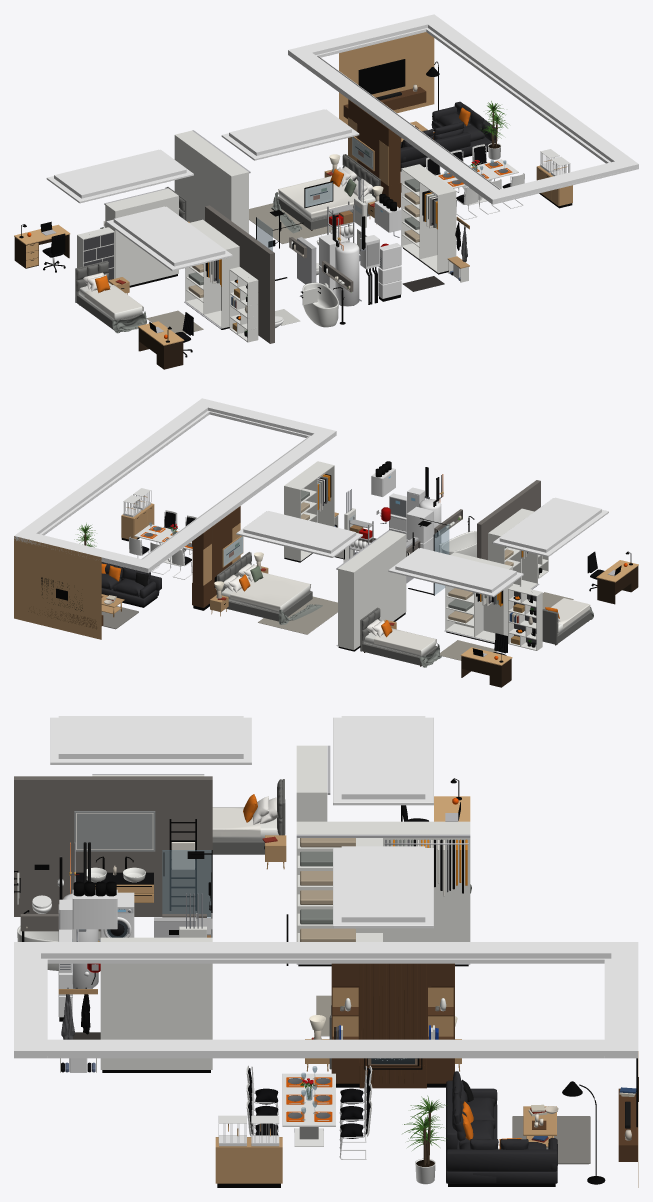
File: nabytek.glb
3 views of the same model, one above another, from view 1: azimuth 30°, elevation 25°; view 2: azimuth 150°, elevation 25°; view 3: azimuth 270°, elevation 25° (orthographic). The views are drawn at different scales.
Parts seen in each view (by area): view 1: nabytek; view 2: nabytek; view 3: nabytek.
Boxes of the visible parts, x1,y1,x2,y2 form: nabytek: [14, 14, 638, 369]; nabytek: [14, 398, 638, 687]; nabytek: [14, 716, 638, 1187].
Size of the model in its own units: 15.07 by 2.71 by 11.16.
